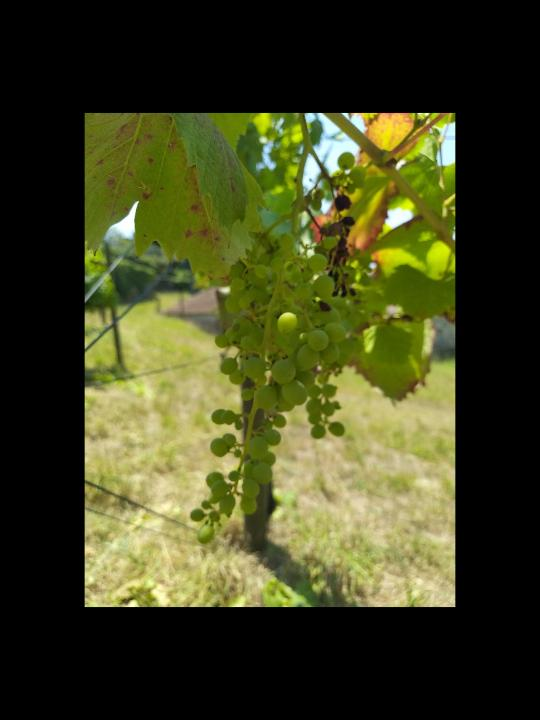grape: (186, 232, 363, 552), (318, 189, 368, 297)
